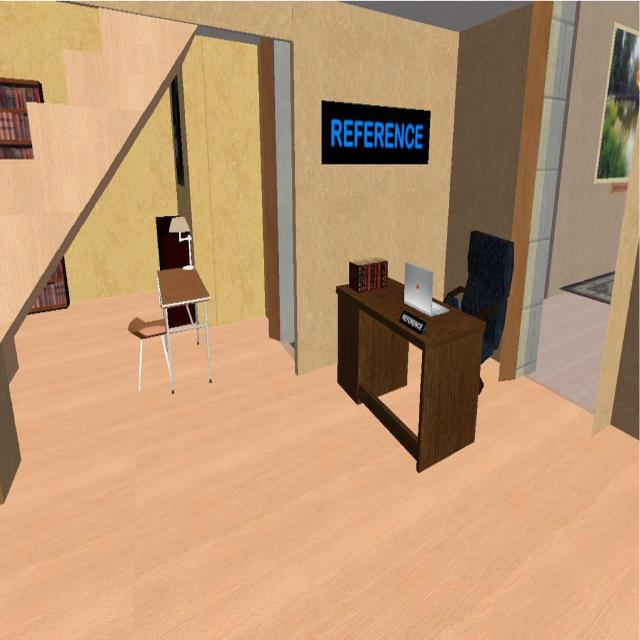chair: (131, 215, 214, 394), (444, 229, 514, 359)
desk: (336, 259, 491, 473)
laptop: (402, 260, 449, 318)
